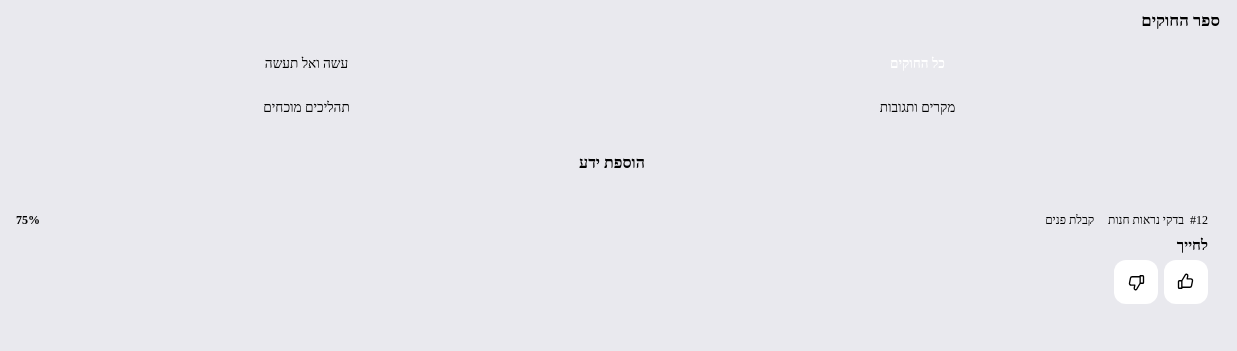
rating a rule › says the rating did not save rather than leaving the row looking voted
The image size is (1237, 351).
Click the button named "הוסיפי לייק" at (1186, 282), box [1164,260,1208,304]
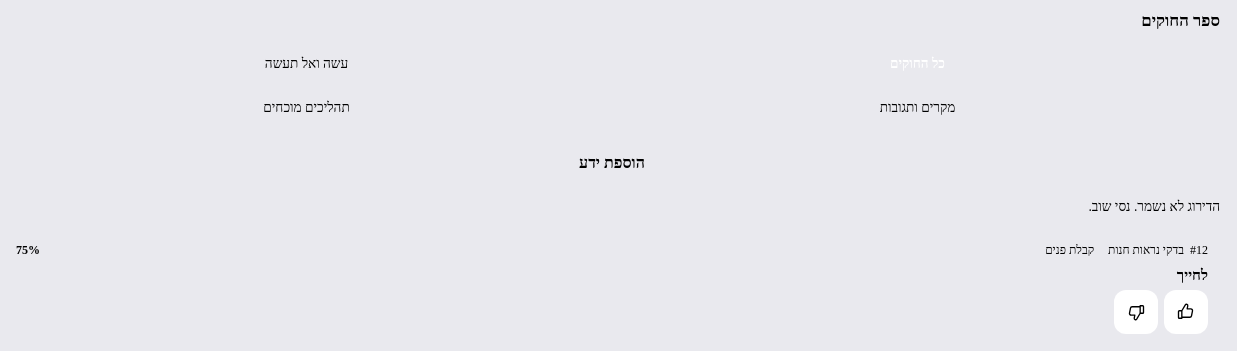
Expected: the message shows "הדירוג לא נשמר", [1088,199,1220,214]
